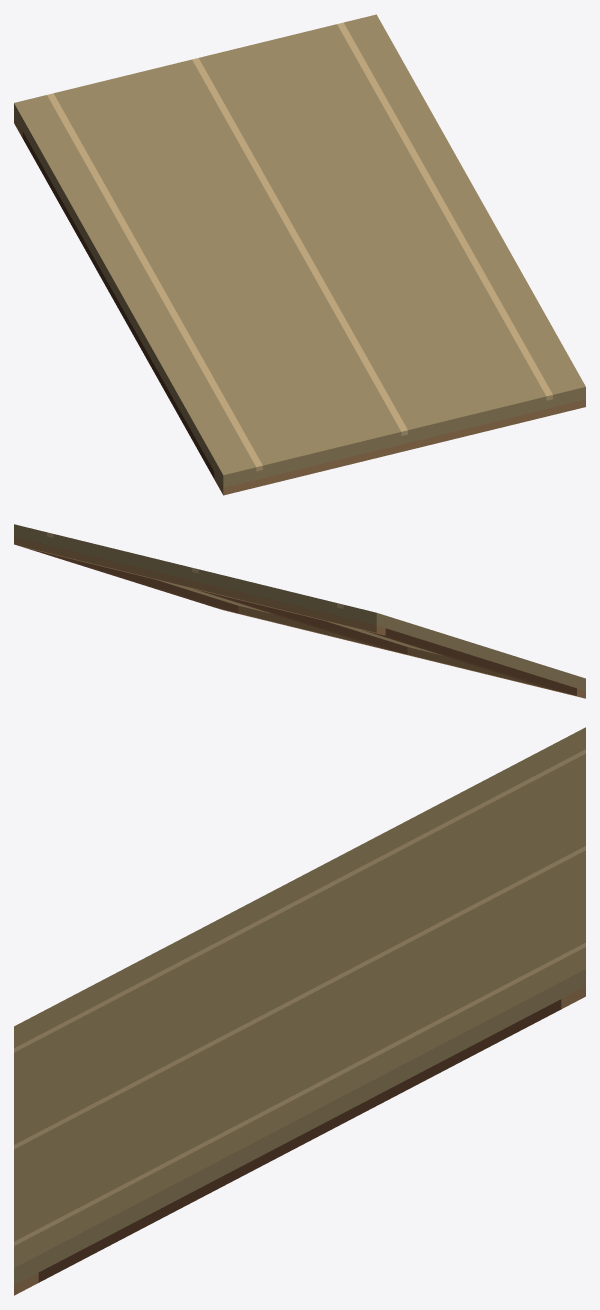
The model's file is roof.glb.
3 renders of one model, top to bottom at view 1: azimuth 30°, elevation 25°; view 2: azimuth 150°, elevation 25°; view 3: azimuth 270°, elevation 25°, orthographic. The views are drawn at different scales.
Visible parts, largest first — view 1: roof_mesh; view 2: roof_mesh; view 3: roof_mesh.
Part boxes in pixels (x1=…): roof_mesh: x1=14, y1=14, x2=585, y2=495; roof_mesh: x1=14, y1=524, x2=585, y2=698; roof_mesh: x1=14, y1=727, x2=585, y2=1295.
Size of the model in its own units: 3 by 1.89 by 3.
